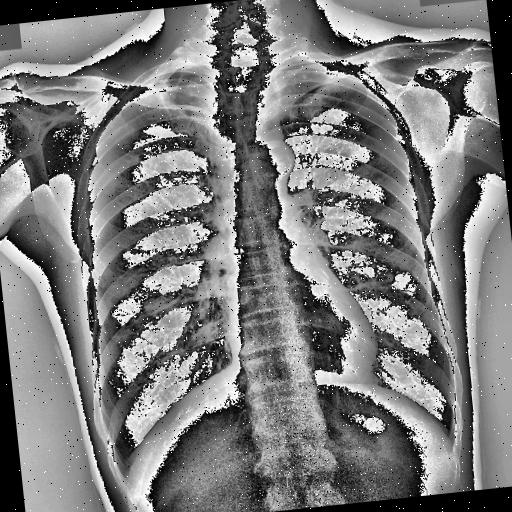0- Aortic enlargement: (246, 137, 296, 180)
10- Pleural effusion: (106, 444, 140, 492)
11- Pleural thickening: (135, 67, 182, 120), (106, 444, 140, 492), (130, 68, 176, 91)
13- Pulmonary fibrosis: (135, 67, 182, 120), (152, 82, 183, 138), (124, 150, 142, 166)
